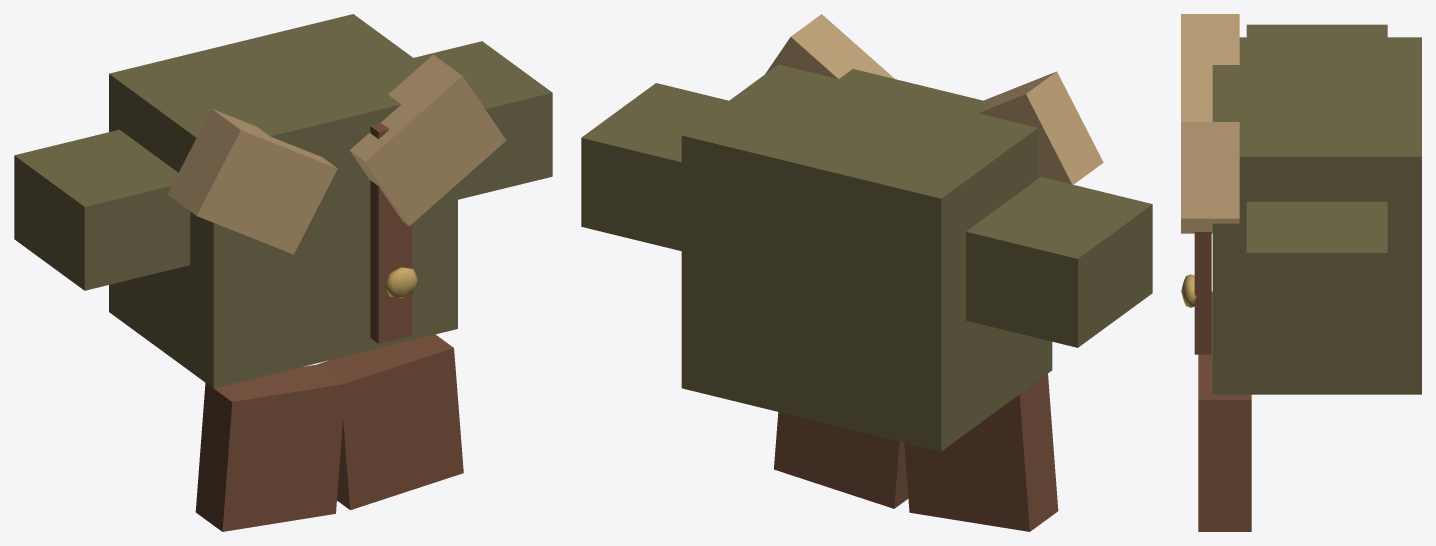
File: fixed-leather-lod1.glb
3 renders of one model, left to right at view 1: azimuth 30°, elevation 25°; view 2: azimuth 150°, elevation 25°; view 3: azimuth 270°, elevation 25°, orthographic. The views are drawn at different scales.
Parts seen in each view (by area): view 1: piece_torso, piece_waist, piece_armR, piece_armL; view 2: piece_torso, piece_armR, piece_waist, piece_armL; view 3: piece_torso, piece_armL, piece_waist, piece_armR.
Boxes of the visible parts, x1,y1,x2,y2 form: piece_torso: [109, 14, 506, 388]; piece_waist: [195, 334, 463, 531]; piece_armR: [14, 129, 190, 290]; piece_armL: [414, 41, 552, 199]; piece_torso: [681, 14, 1103, 451]; piece_armR: [966, 177, 1152, 347]; piece_waist: [774, 374, 1058, 531]; piece_armL: [581, 83, 728, 250]; piece_torso: [1181, 14, 1421, 394]; piece_armL: [1246, 201, 1387, 336]; piece_waist: [1198, 291, 1251, 531]; piece_armR: [1246, 24, 1387, 37].
Bounding box in the file's own units: 1.11 × 0.9411 × 0.495.
